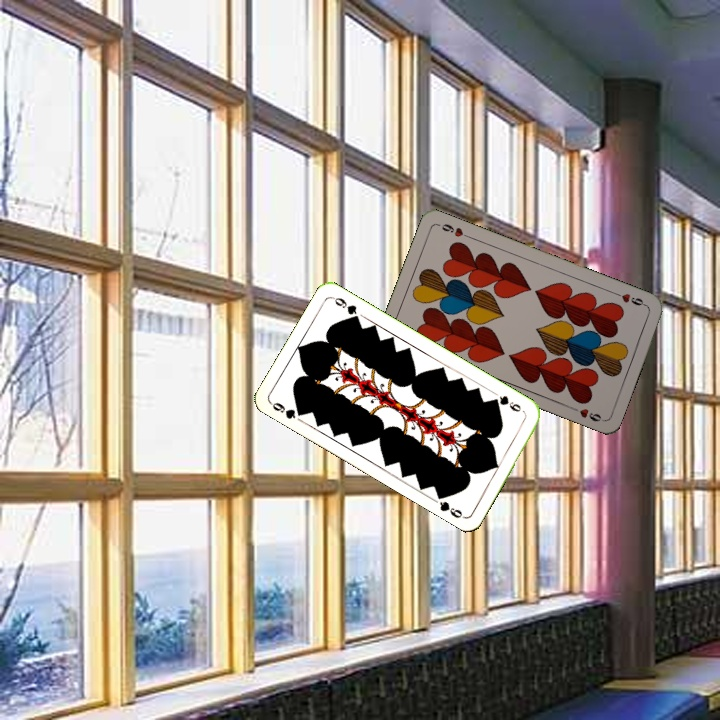G9: (267, 398, 307, 422), (489, 391, 524, 414)
H9: (610, 288, 649, 309)
